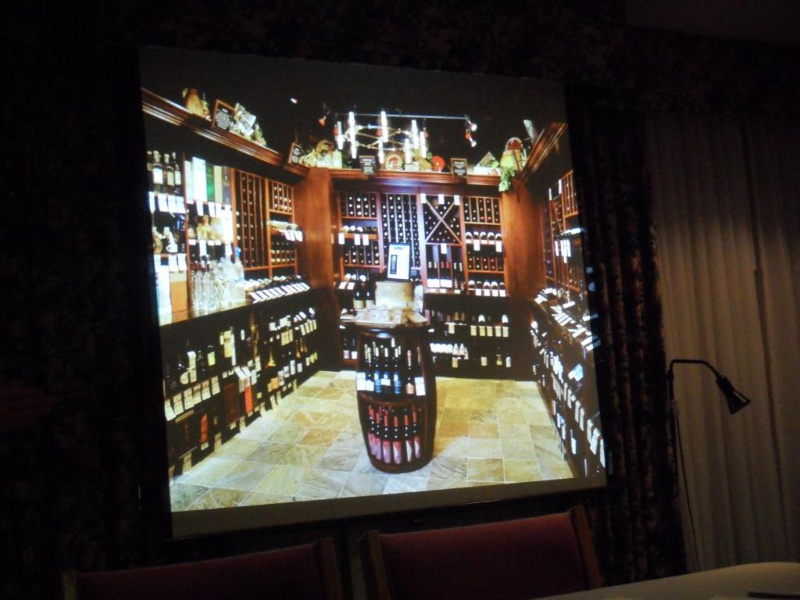wine: (144, 83, 611, 489)
